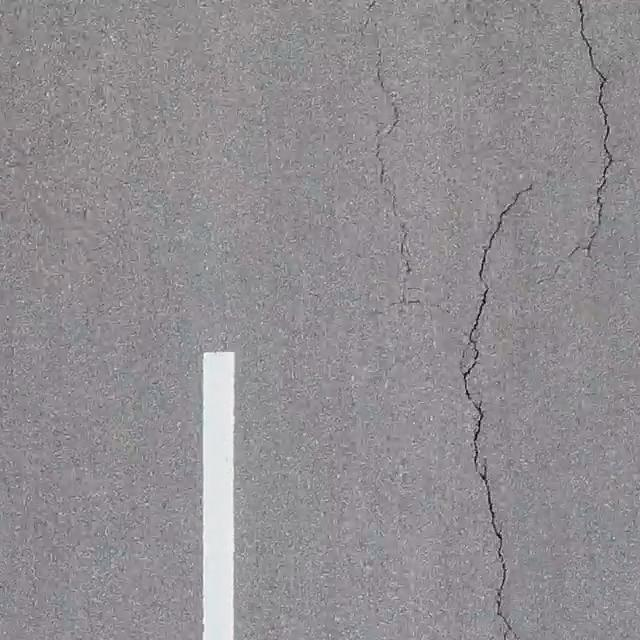GRIETA: (461, 184, 533, 639), (367, 0, 421, 306), (576, 0, 614, 252)
